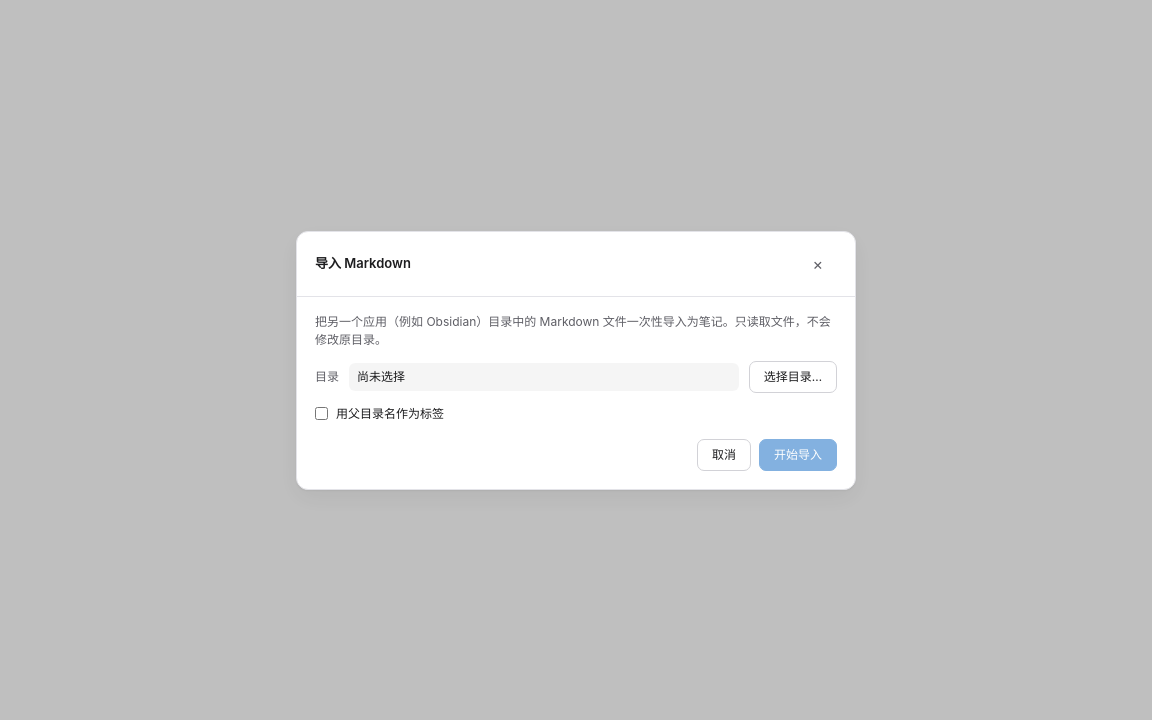
Test case: import dialog stages › lists every failure with its reason when some files fail
This screenshot has width=1152, height=720.
Step 1. Click the button "选择目录…" → x=793, y=376, box top-left (749, 360), bottom-right (837, 392)
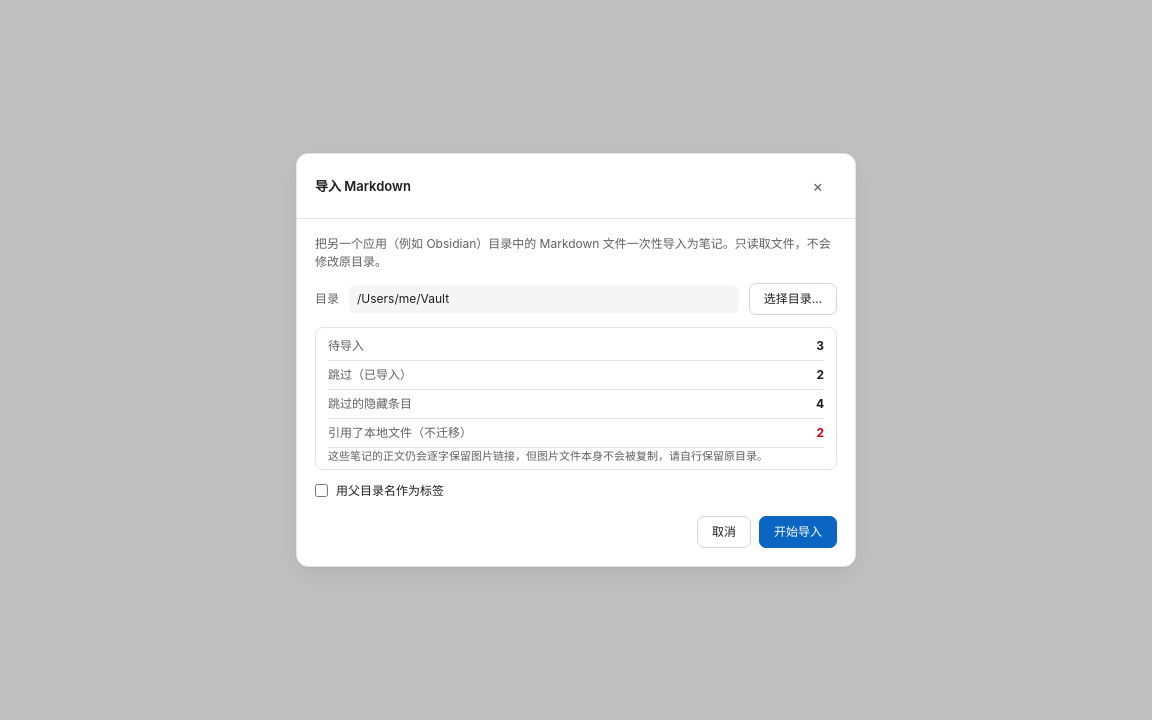
Step 2. Click the button "开始导入" → x=798, y=532, box top-left (759, 516), bottom-right (837, 548)
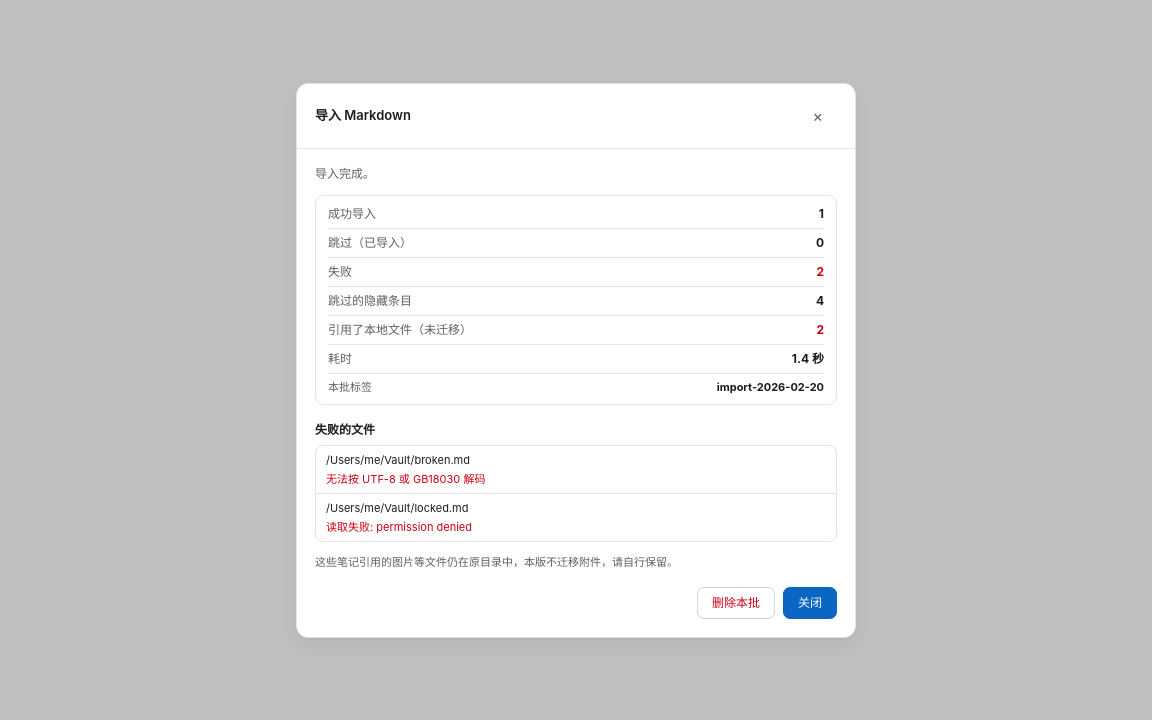
Result: the element with class "failures" is shown at top-left (315, 417), bottom-right (837, 542)
Result: the number of list items is 2 at top-left (316, 446), bottom-right (836, 494); top-left (326, 501), bottom-right (472, 534)
Result: the text "/Users/me/Vault/broken.md" is shown at top-left (326, 453), bottom-right (470, 467)
